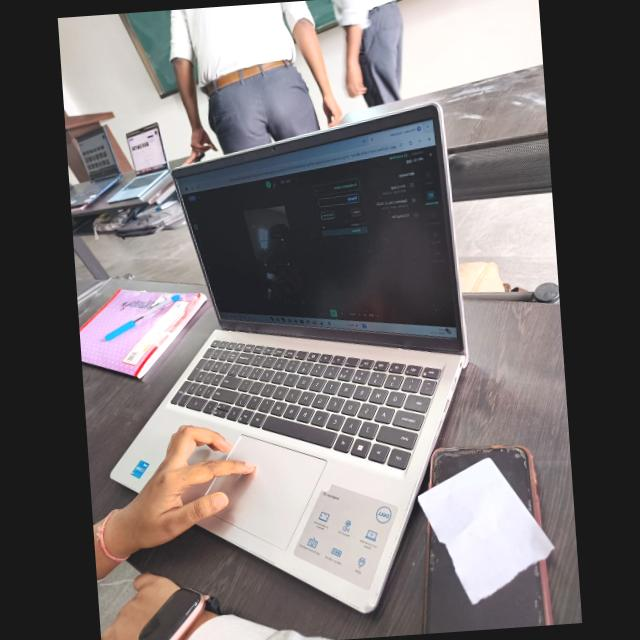laptop: (98, 98, 535, 615)
